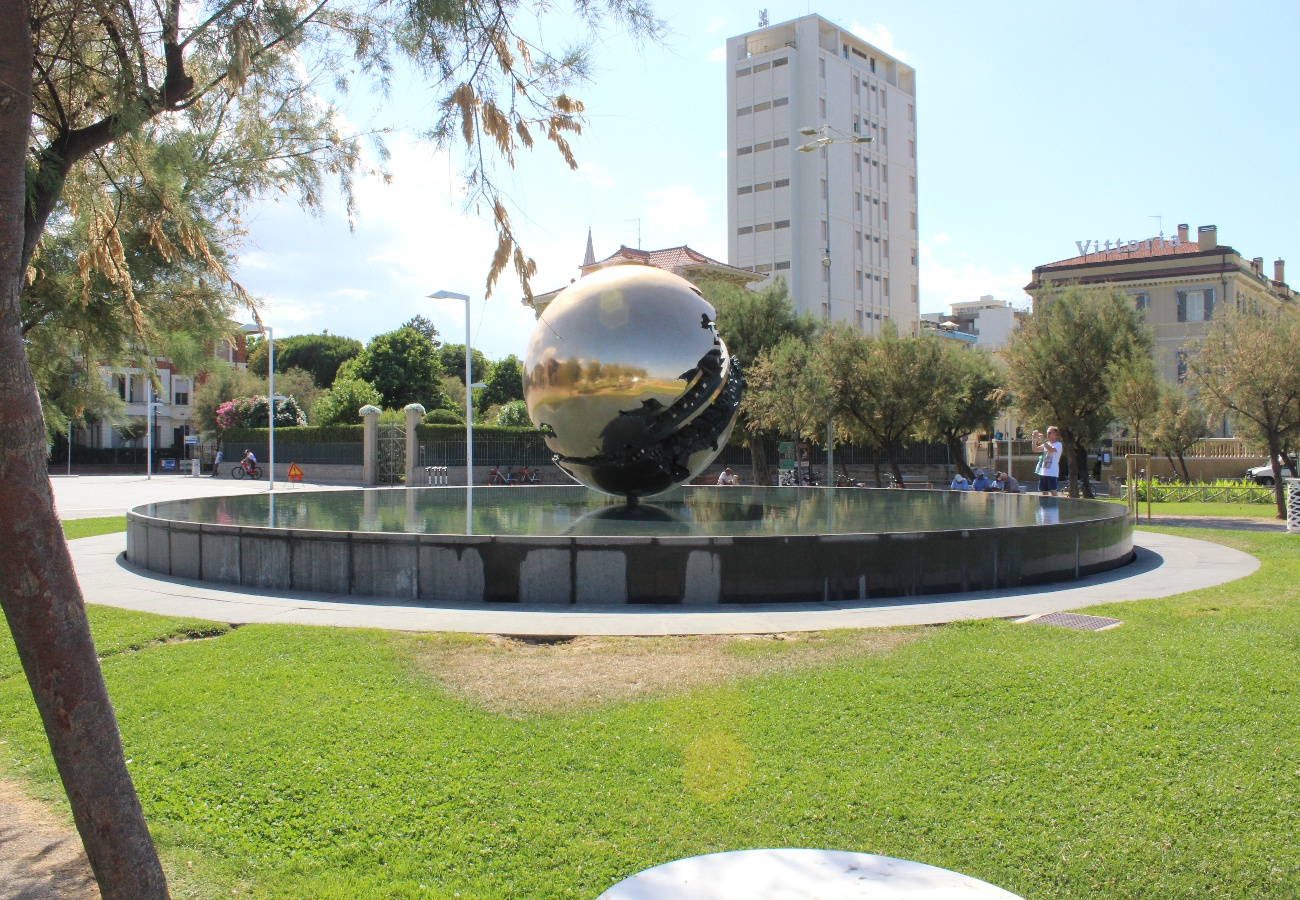Palla di Pomodoro: (521, 265, 746, 503)
